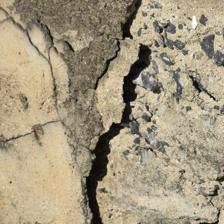Crack: (41, 10, 109, 102), (61, 0, 92, 103), (45, 136, 76, 224)
